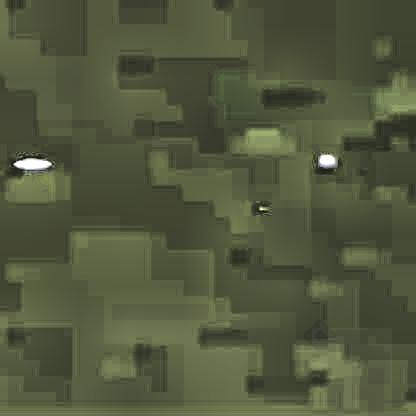golfball: (314, 150, 334, 170)
